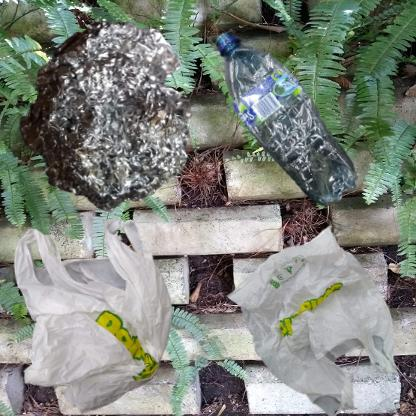aluminio: (10, 10, 204, 223)
bolsa: (213, 213, 416, 416), (10, 213, 184, 416)
botella: (213, 10, 378, 246)
